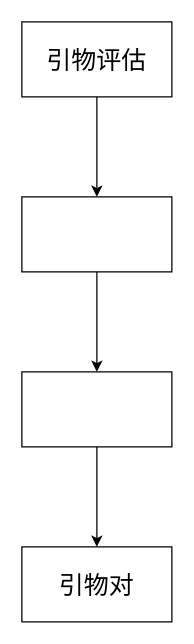
Some shapes in this 194 by 644 pixel diagram are drawn without their labels. Here are the shapes that lost their labels. From the top down, the box of each, then its label:
(21, 196, 172, 272): 特异性评估
(21, 371, 172, 447): 包容性评估
